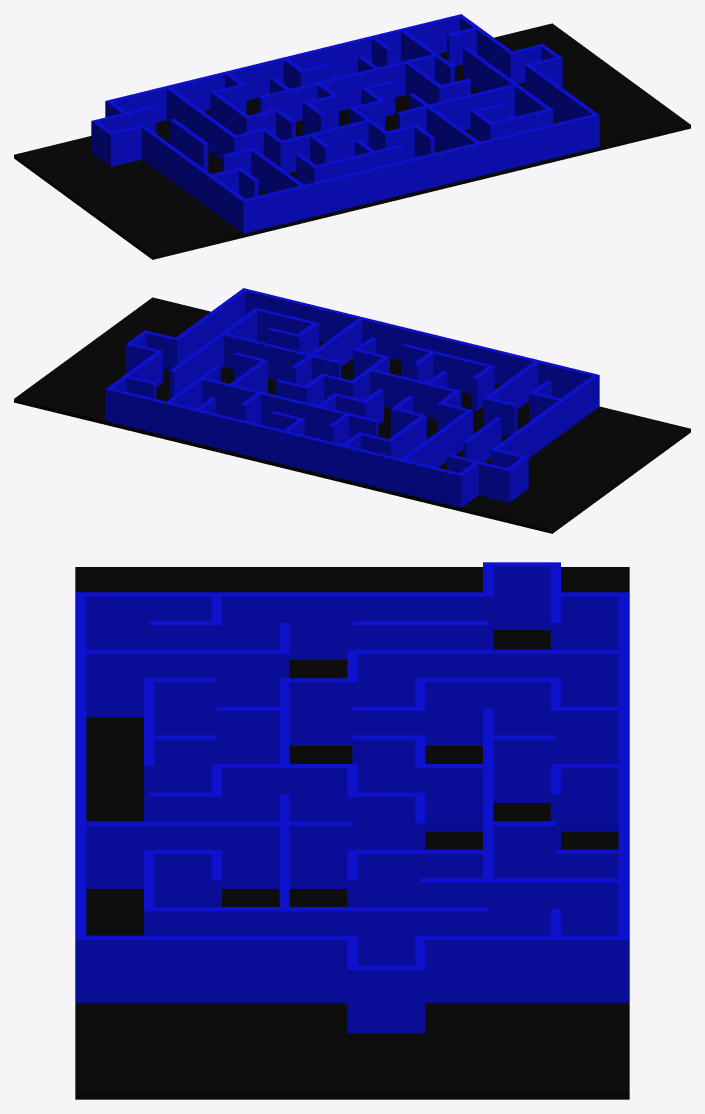
Rendered from Labyrinth3.fbx.
3 views of the same model, one above another, from view 1: azimuth 30°, elevation 25°; view 2: azimuth 150°, elevation 25°; view 3: azimuth 270°, elevation 25° (orthographic). The views are drawn at different scales.
Visible parts, largest first — view 1: Lab3; view 2: Lab3; view 3: Lab3.
Part boxes in pixels (x1,y1,x2,y2): Lab3: [14, 14, 690, 259]; Lab3: [14, 288, 690, 533]; Lab3: [75, 562, 629, 1099].
Size of the model in its own units: 60.73 by 3.82 by 27.08.
